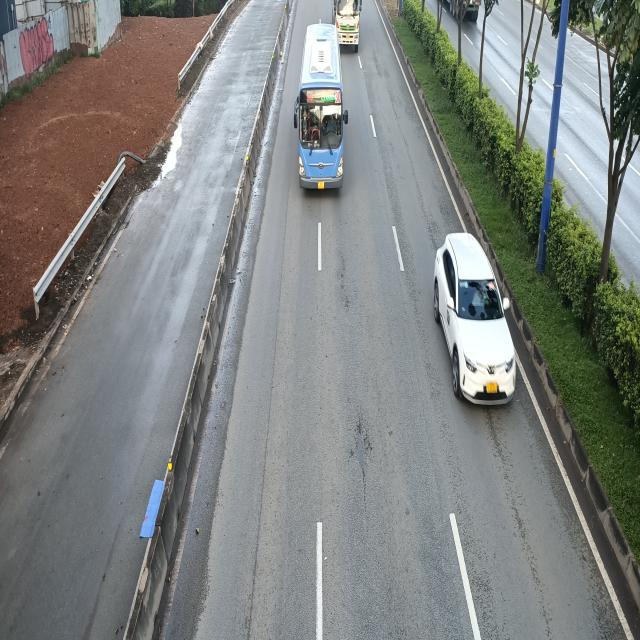car: (434, 234, 516, 409)
coach: (292, 20, 346, 190)
truck: (333, 0, 363, 51)
